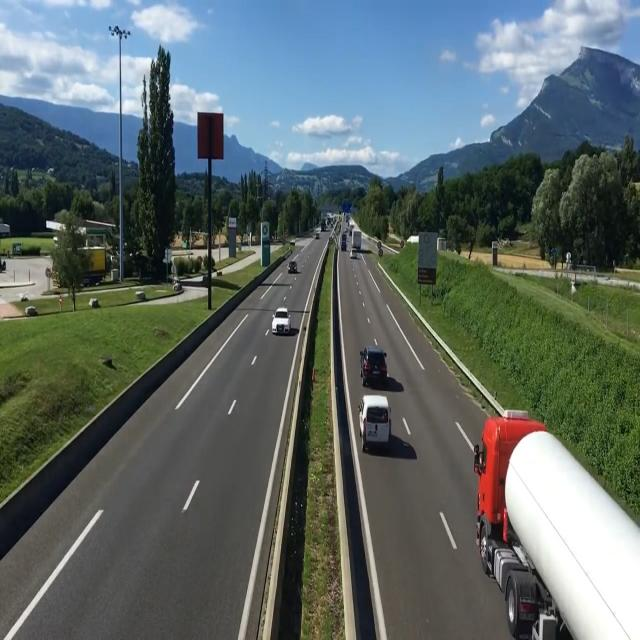car: (361, 393, 391, 456), (360, 340, 390, 392), (271, 303, 294, 339), (286, 256, 300, 280)
truck: (470, 405, 640, 638)
